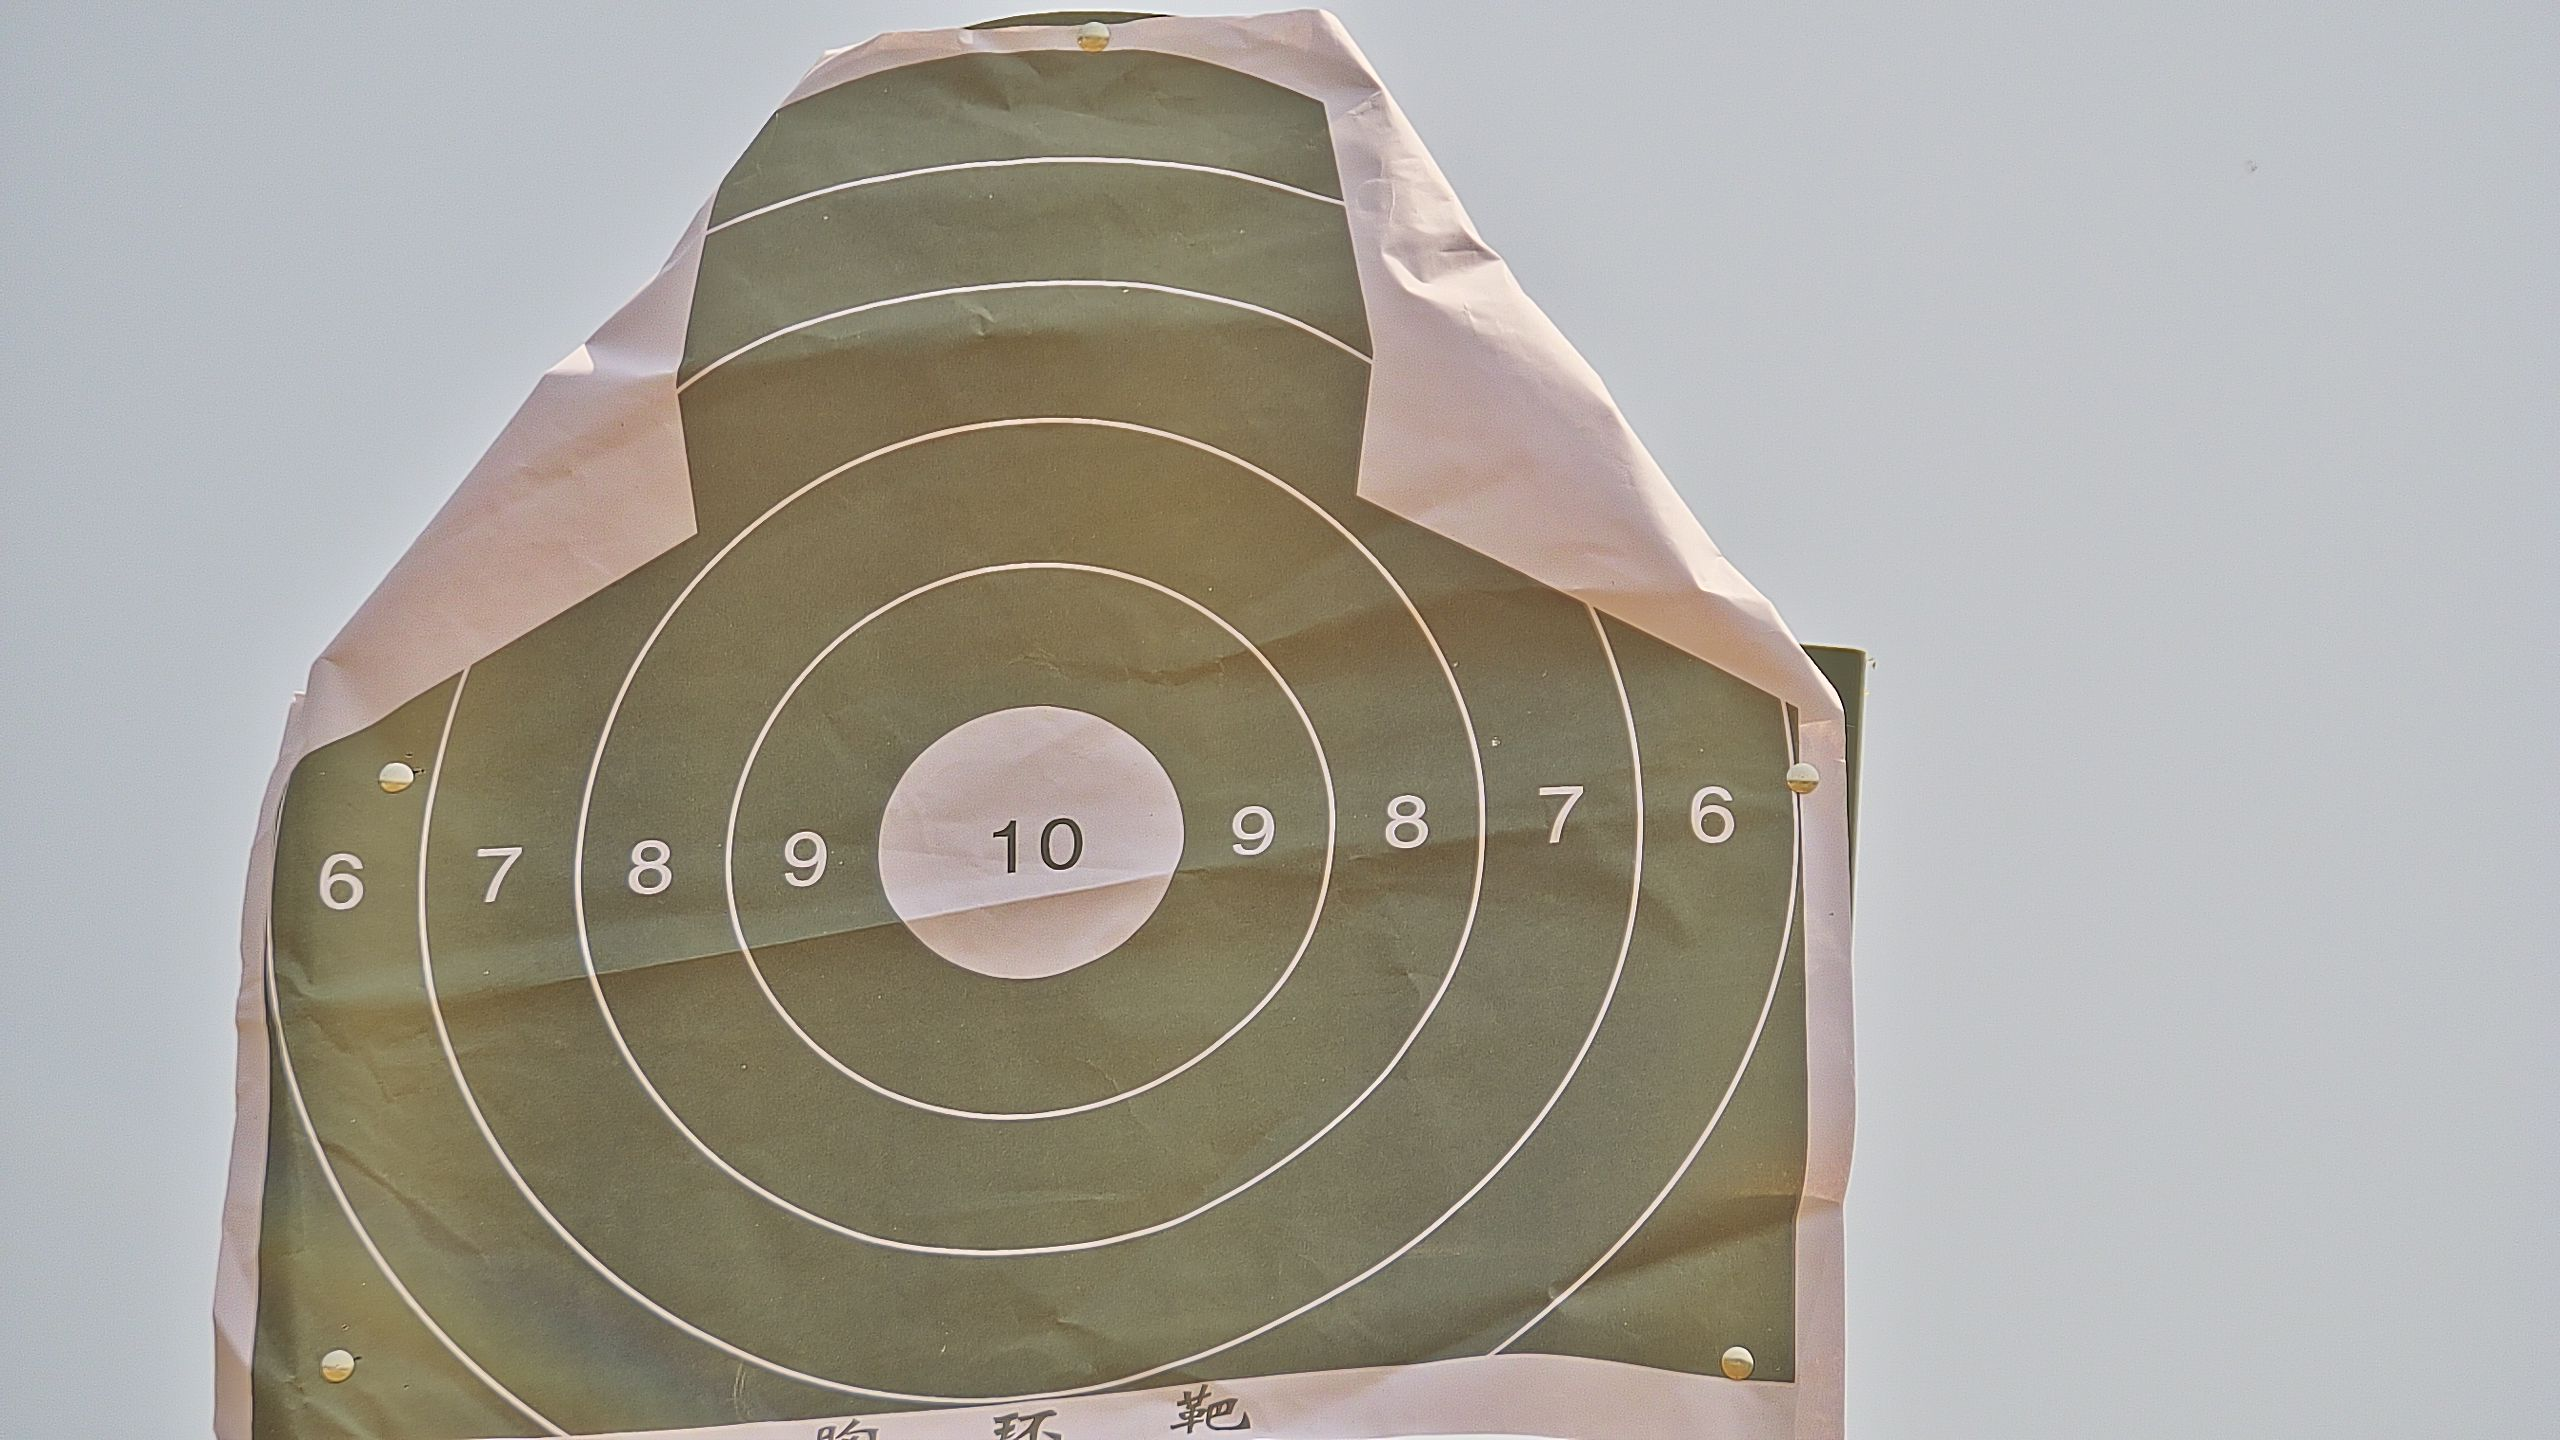kernel: (1025, 844, 1029, 849)
target: (244, 46, 1822, 1440)
ten: (876, 705, 1183, 979)
